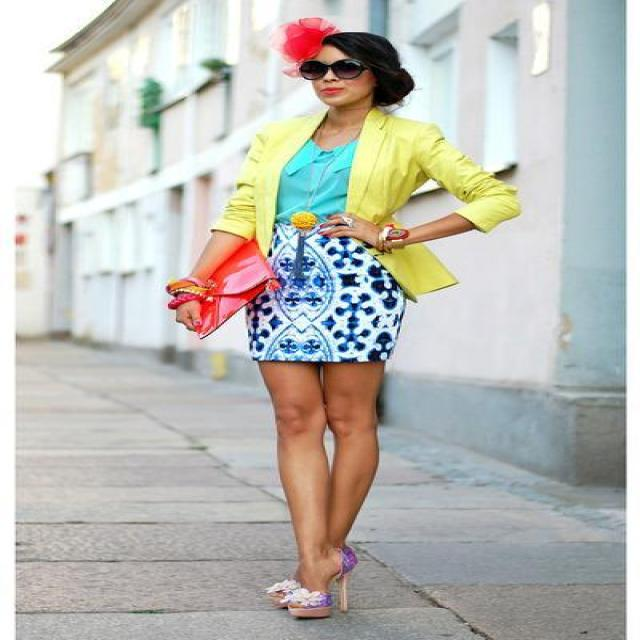bag: (190, 230, 288, 332)
jacket: (224, 95, 520, 312)
shirt: (272, 141, 357, 242)
shoe: (266, 541, 379, 622)
skirt: (232, 224, 419, 372)
sunglass: (299, 56, 366, 79)
